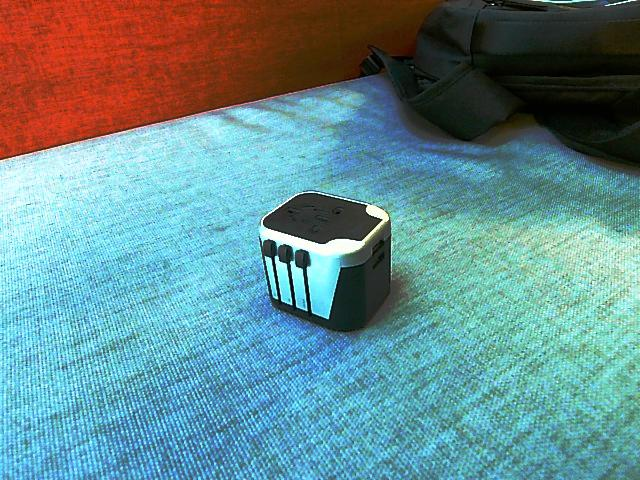adapter: (256, 188, 392, 331)
